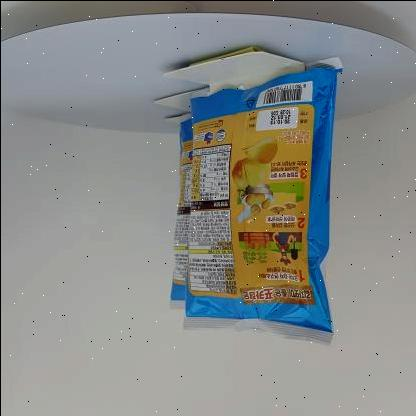Others: (147, 49, 345, 355)
